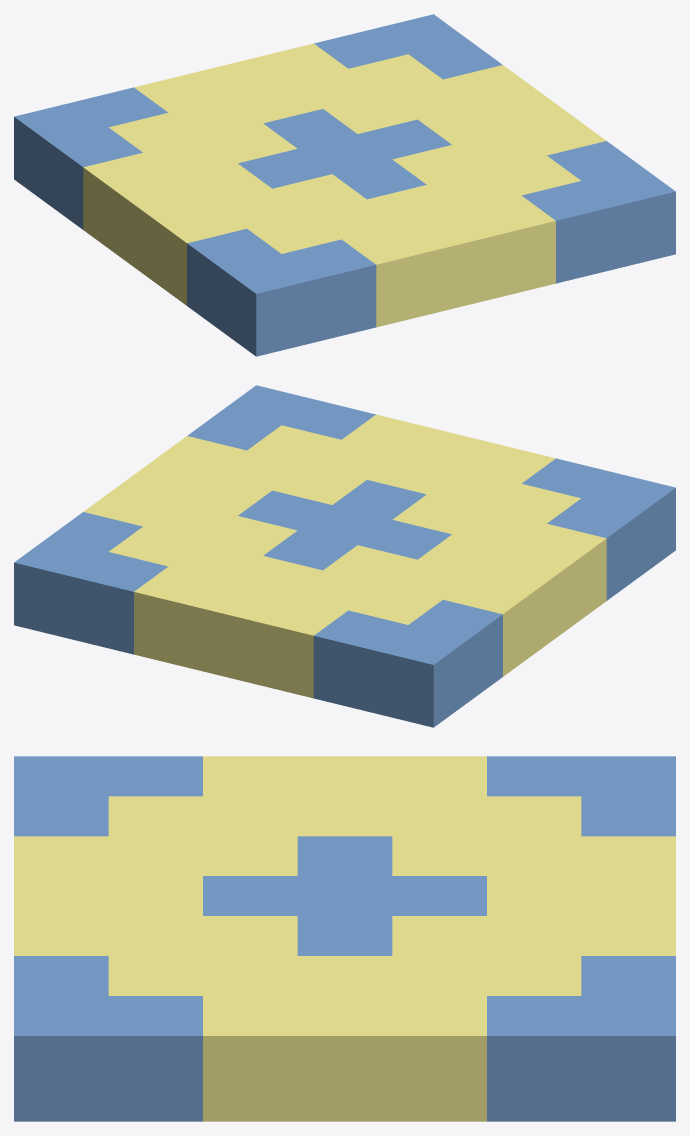
File: Brick1.obj
3 views of the same model, one above another, from view 1: azimuth 30°, elevation 25°; view 2: azimuth 150°, elevation 25°; view 3: azimuth 270°, elevation 25° (orthographic). The views are drawn at different scales.
Visible parts, largest first — view 1: Brick1; view 2: Brick1; view 3: Brick1.
Boxes of the visible parts, x1,y1,x2,y2 form: Brick1: (14,14,675,356); Brick1: (14,385,675,727); Brick1: (14,756,675,1121).
Size of the model in its own units: 7 by 1 by 7.
1 material, 1 textured.
